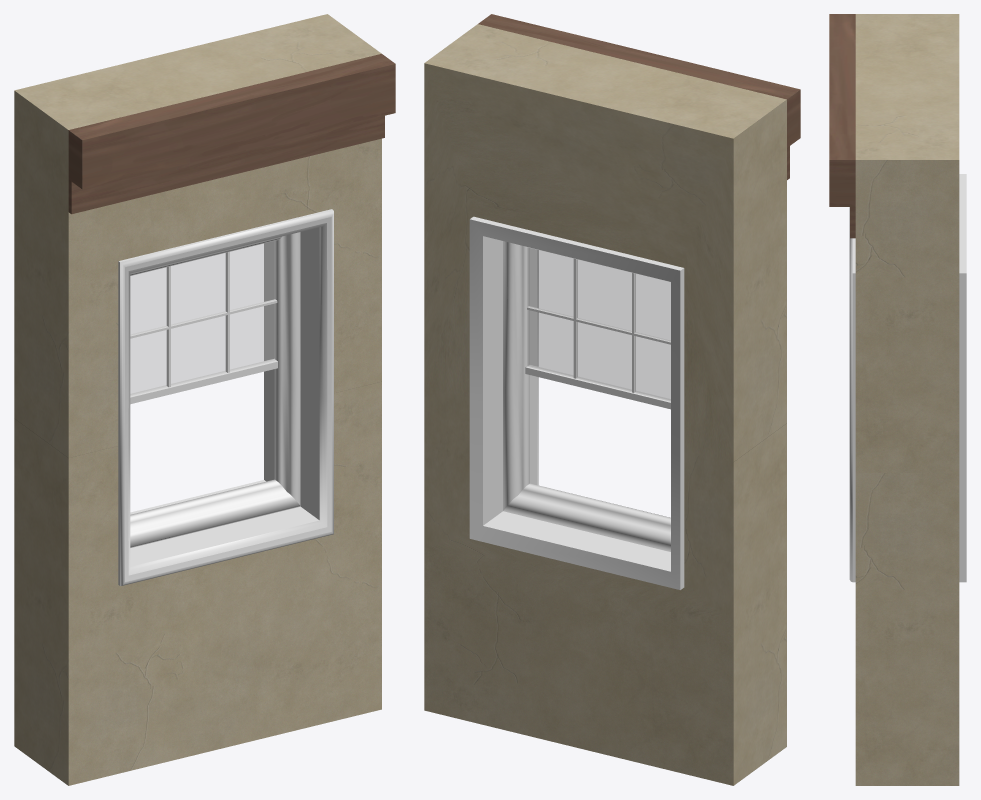
File: WindowWall.glb
3 views of the same model, side by side, from view 1: azimuth 30°, elevation 25°; view 2: azimuth 150°, elevation 25°; view 3: azimuth 270°, elevation 25° (orthographic). The views are drawn at different scales.
Parts seen in each view (by area): view 1: Window Wall; view 2: Window Wall; view 3: Window Wall.
Part boxes in pixels (x1,y1,x2,y2): Window Wall: (14, 14, 395, 785); Window Wall: (424, 14, 800, 785); Window Wall: (829, 14, 966, 785).
Size of the model in its own units: 2 by 4 by 0.7953.
3 materials, 1 textured.
